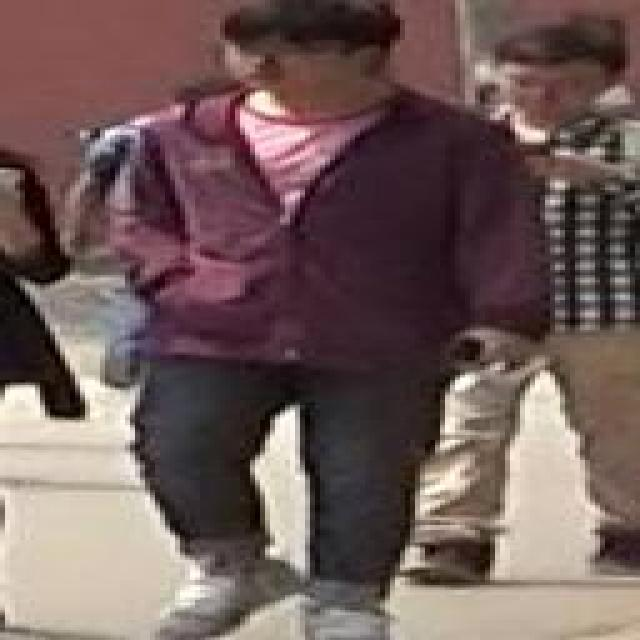adult: (93, 3, 549, 640), (403, 33, 634, 568)
